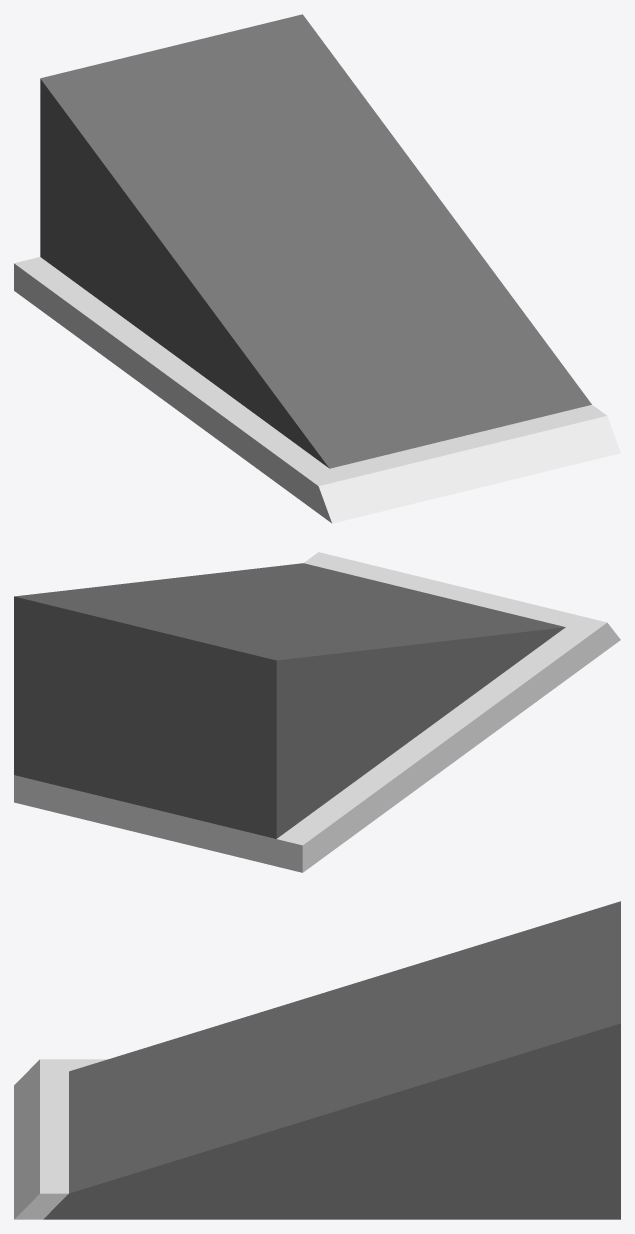
Rendered from RoofShedSmallRight.glb.
3 renders of one model, top to bottom at view 1: azimuth 30°, elevation 25°; view 2: azimuth 150°, elevation 25°; view 3: azimuth 270°, elevation 25°, orthographic. The views are drawn at different scales.
Visible parts, largest first — view 1: RoofShedSmallRight; view 2: RoofShedSmallRight; view 3: RoofShedSmallRight.
Boxes of the visible parts, left/top/right/bottom form: RoofShedSmallRight: left=14, top=14, right=620, bottom=523; RoofShedSmallRight: left=14, top=552, right=620, bottom=872; RoofShedSmallRight: left=14, top=901, right=620, bottom=1219.
Bounding box in the file's own units: 1.1 × 0.75 × 2.1.
1 material, 1 textured.
